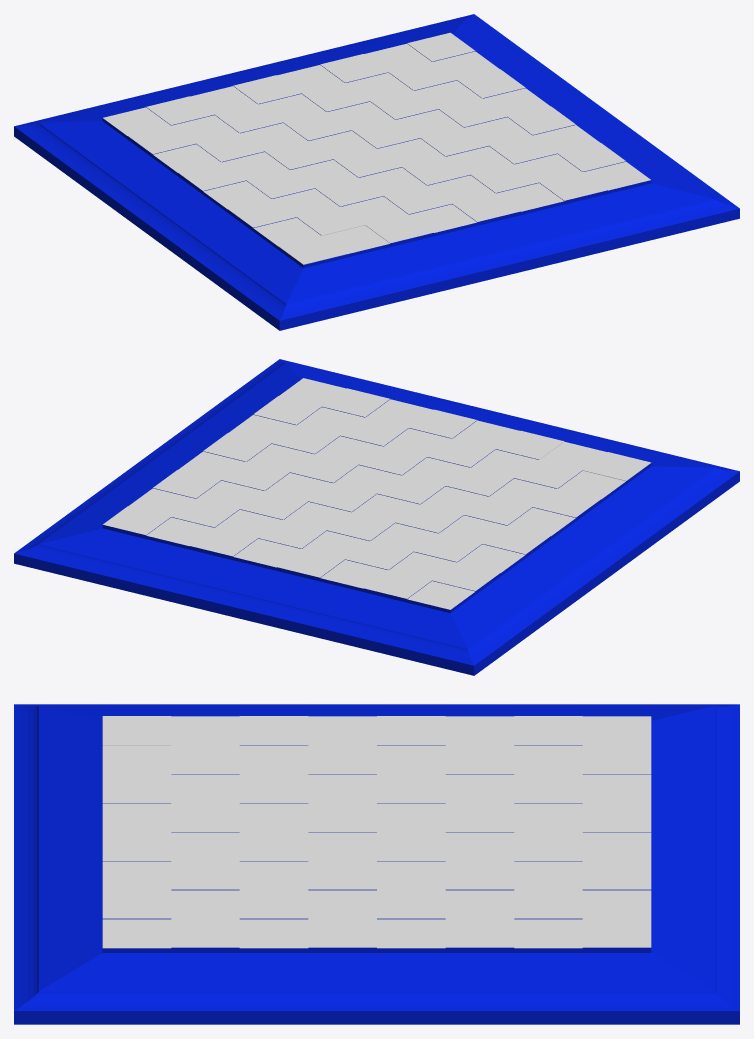
Rendered from Chessboard3.fbx.
3 renders of one model, top to bottom at view 1: azimuth 30°, elevation 25°; view 2: azimuth 150°, elevation 25°; view 3: azimuth 270°, elevation 25°, orthographic. The views are drawn at different scales.
Parts seen in each view (by area): view 1: Chess Board.001; view 2: Chess Board.001; view 3: Chess Board.001.
Boxes of the visible parts, bbox=[...] form: Chess Board.001: bbox=[14, 14, 739, 330]; Chess Board.001: bbox=[14, 359, 739, 675]; Chess Board.001: bbox=[14, 704, 739, 1024].
Bounding box in the file's own units: 10.56 × 0.6349 × 10.56.
